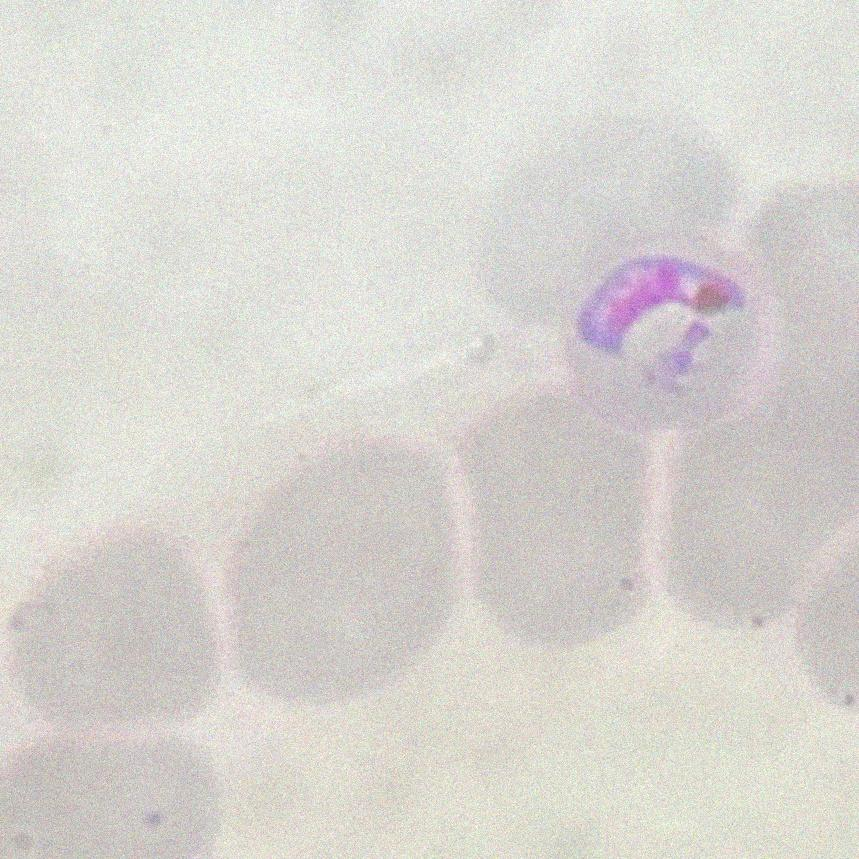Infected: (560, 239, 763, 438)
Uninfected: (226, 435, 462, 694), (466, 399, 663, 652), (664, 379, 859, 631), (12, 531, 222, 723)
